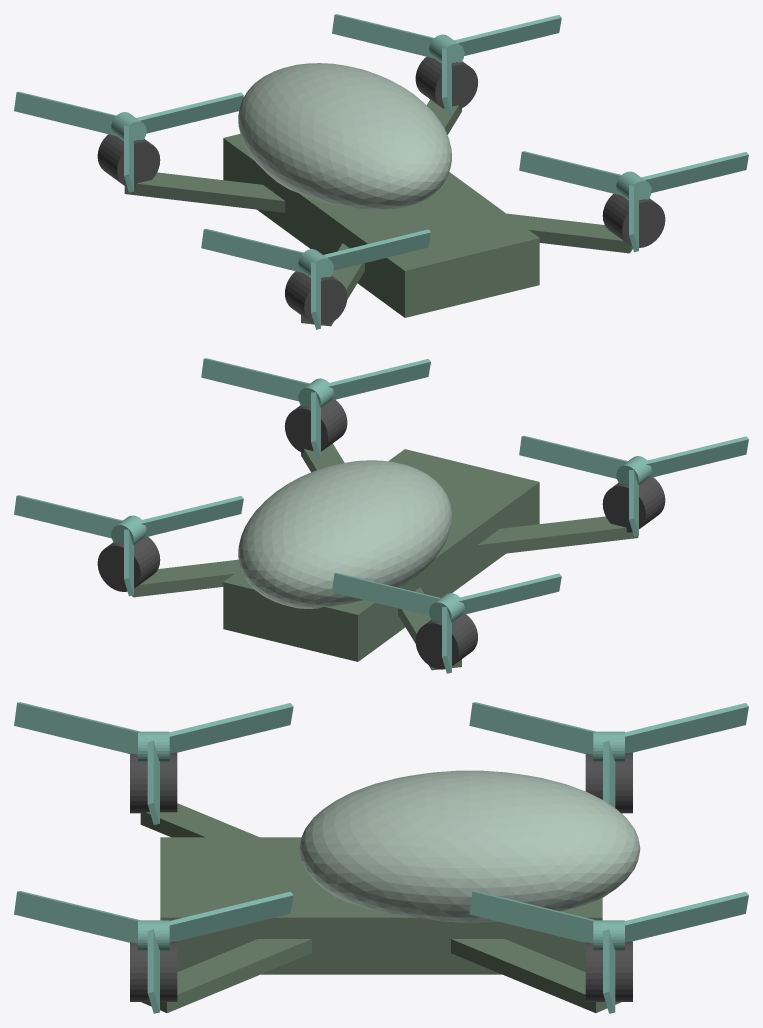
Rendered from Five33 MidMount.glb.
The picture shows the model from 3 angles, top to bottom: view 1: azimuth 30°, elevation 25°; view 2: azimuth 150°, elevation 25°; view 3: azimuth 270°, elevation 25°; orthographic projection. The views are drawn at different scales.
Visible parts, largest first — view 1: canopy, frame_body, prop_1, prop_2, prop_0, prop_3, arm_3, arm_0, motor_2, motor_0, motor_1, motor_3 (+1 smaller); view 2: canopy, frame_body, prop_3, prop_1, prop_2, prop_0, arm_2, arm_1, motor_3, motor_1, motor_0, motor_2 (+2 smaller); view 3: canopy, frame_body, prop_2, prop_1, prop_0, prop_3, arm_1, arm_0, arm_2, motor_2, motor_1, motor_0 (+1 smaller).
Boxes of the visible parts, x1=… form: canopy: x1=238, y1=63, x2=451, y2=209; frame_body: x1=223, y1=134, x2=539, y2=317; prop_1: x1=332, y1=14, x2=561, y2=114; prop_2: x1=201, y1=228, x2=430, y2=329; prop_0: x1=519, y1=151, x2=748, y2=252; prop_3: x1=14, y1=91, x2=243, y2=192; arm_3: x1=124, y1=172, x2=285, y2=212; arm_0: x1=507, y1=213, x2=632, y2=253; motor_2: x1=285, y1=271, x2=347, y2=325; motor_0: x1=602, y1=193, x2=665, y2=247; motor_1: x1=415, y1=56, x2=478, y2=109; motor_3: x1=97, y1=134, x2=160, y2=188; canopy: x1=238, y1=460, x2=451, y2=608; frame_body: x1=223, y1=449, x2=539, y2=661; prop_3: x1=332, y1=572, x2=561, y2=673; prop_1: x1=14, y1=495, x2=243, y2=596; prop_2: x1=519, y1=435, x2=748, y2=536; prop_0: x1=201, y1=358, x2=430, y2=459; arm_2: x1=477, y1=516, x2=638, y2=556; arm_1: x1=132, y1=559, x2=240, y2=597; motor_3: x1=415, y1=614, x2=477, y2=669; motor_1: x1=97, y1=537, x2=160, y2=591; motor_0: x1=284, y1=399, x2=347, y2=453; motor_2: x1=602, y1=477, x2=665, y2=532; canopy: x1=299, y1=770, x2=640, y2=922; frame_body: x1=160, y1=837, x2=602, y2=974; prop_2: x1=14, y1=702, x2=293, y2=824; prop_1: x1=469, y1=891, x2=748, y2=1013; prop_0: x1=14, y1=891, x2=293, y2=1013; prop_3: x1=469, y1=702, x2=748, y2=807; arm_1: x1=451, y1=939, x2=621, y2=1012; arm_0: x1=141, y1=939, x2=311, y2=1012; arm_2: x1=140, y1=803, x2=259, y2=837; motor_2: x1=130, y1=752, x2=177, y2=813; motor_1: x1=585, y1=941, x2=632, y2=1001; motor_0: x1=130, y1=941, x2=177, y2=1001.
Size of the model in its own units: 0.2181 by 0.0516 by 0.2327.
